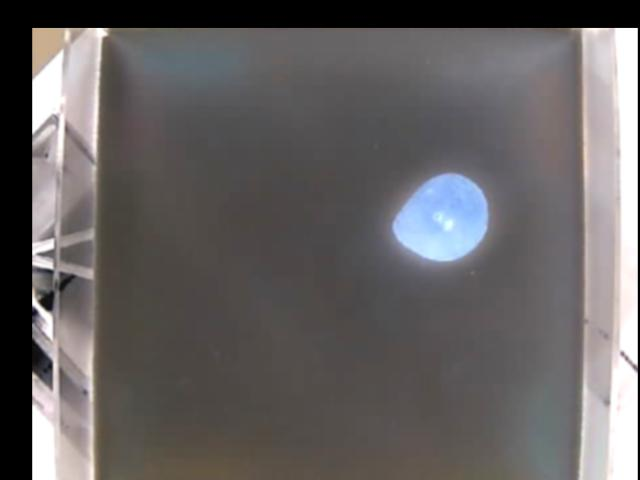Potato: (392, 173, 488, 260)
